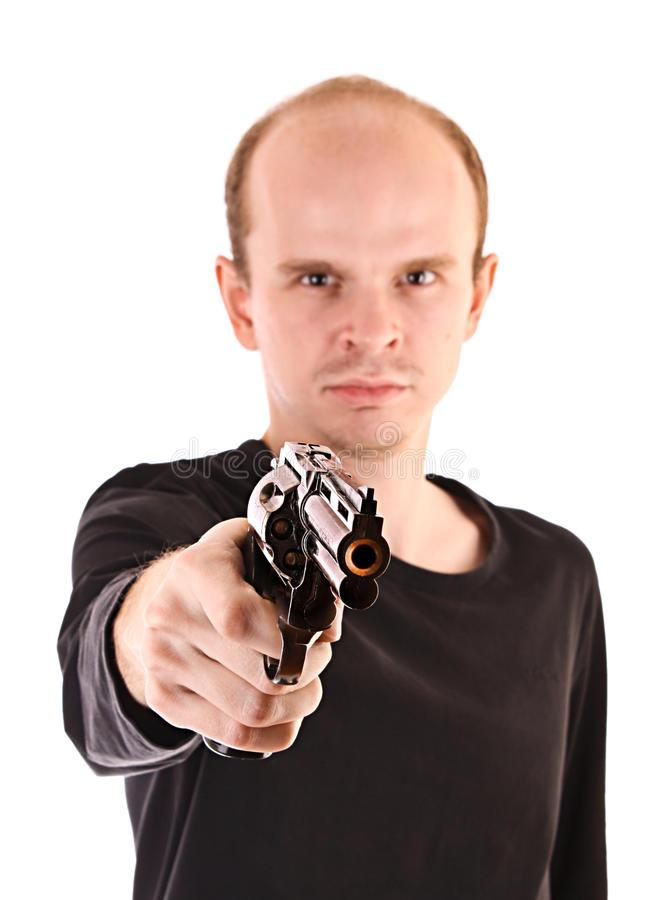criminal: (53, 68, 612, 900)
weapon: (197, 438, 394, 764)
